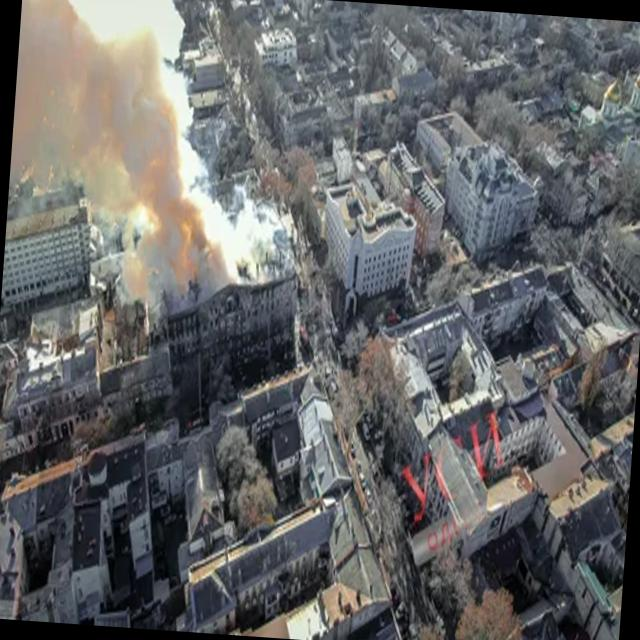Smoke: (0, 0, 291, 314)
